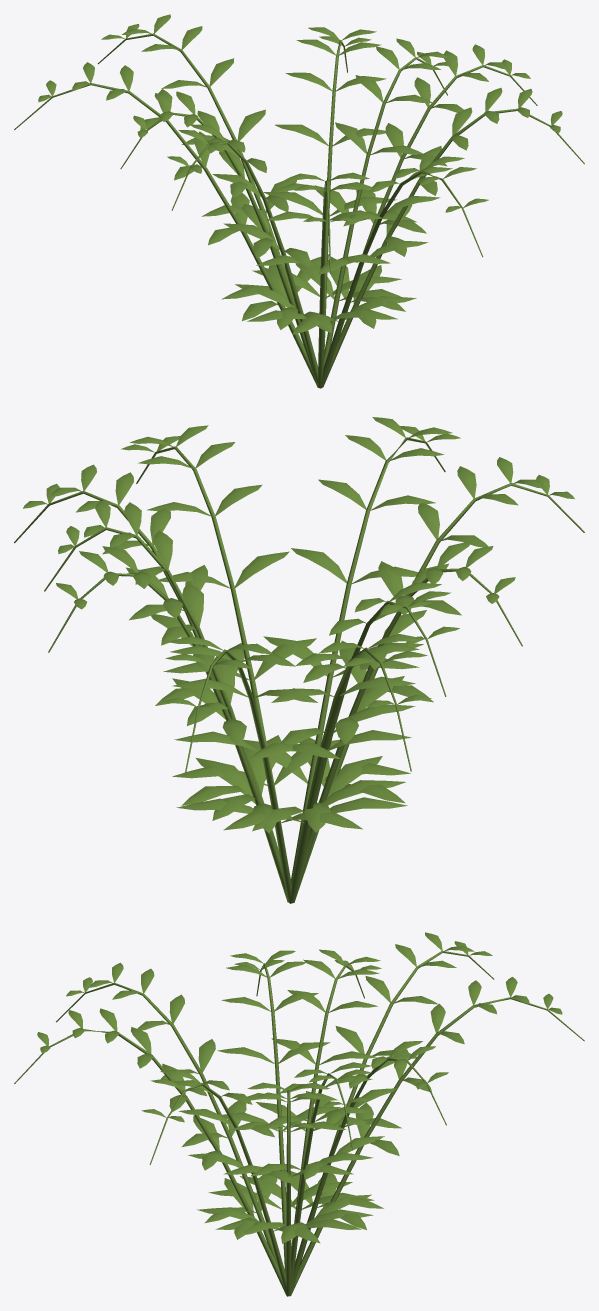
Rendered from fern-clump-060.glb.
3 renders of one model, top to bottom at view 1: azimuth 30°, elevation 25°; view 2: azimuth 150°, elevation 25°; view 3: azimuth 270°, elevation 25°, orthographic. The views are drawn at different scales.
Visible parts, largest first — view 1: fern-clump-060 / N06 / olive leaf mid; view 2: fern-clump-060 / N06 / olive leaf mid; view 3: fern-clump-060 / N06 / olive leaf mid.
Part boxes in pixels (bbox=[...]): fern-clump-060 / N06 / olive leaf mid: bbox=[14, 14, 584, 388]; fern-clump-060 / N06 / olive leaf mid: bbox=[14, 417, 584, 903]; fern-clump-060 / N06 / olive leaf mid: bbox=[14, 932, 584, 1296].
Bounding box in the file's own units: 0.9625 × 0.6402 × 1.18.
